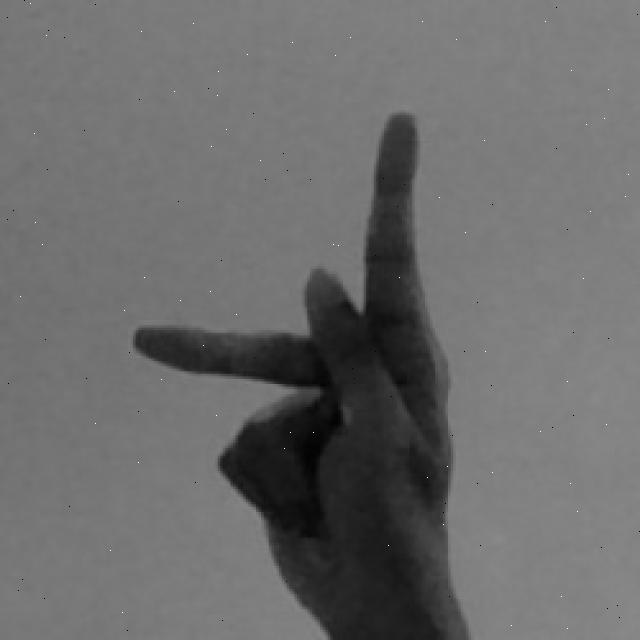K: (126, 107, 505, 640)
